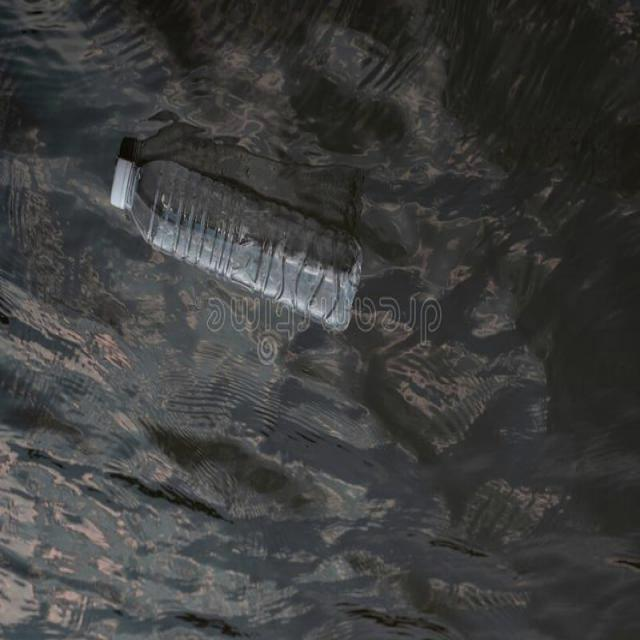Plastic: (97, 152, 364, 334)
